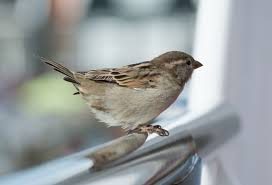hsparrow: (34, 48, 204, 135)
